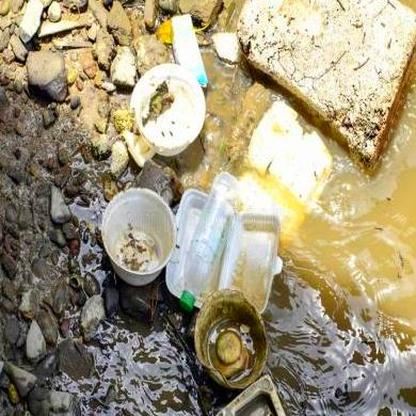foam: (166, 188, 280, 312)
plastic bottle: (181, 171, 235, 309)
